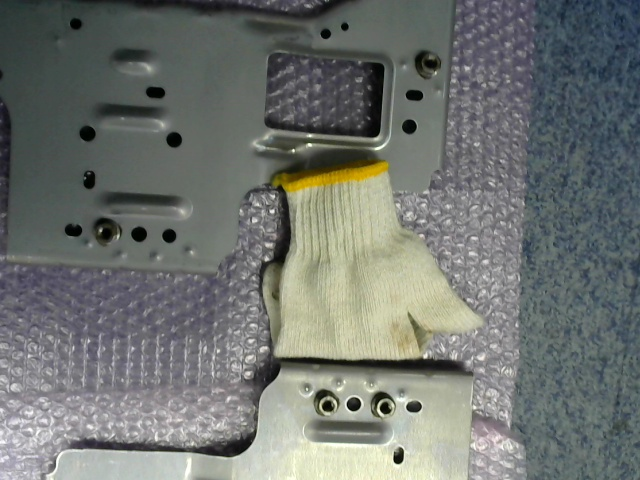dog: (93, 217, 122, 247), (415, 50, 442, 79), (313, 389, 339, 418), (371, 391, 396, 419)
